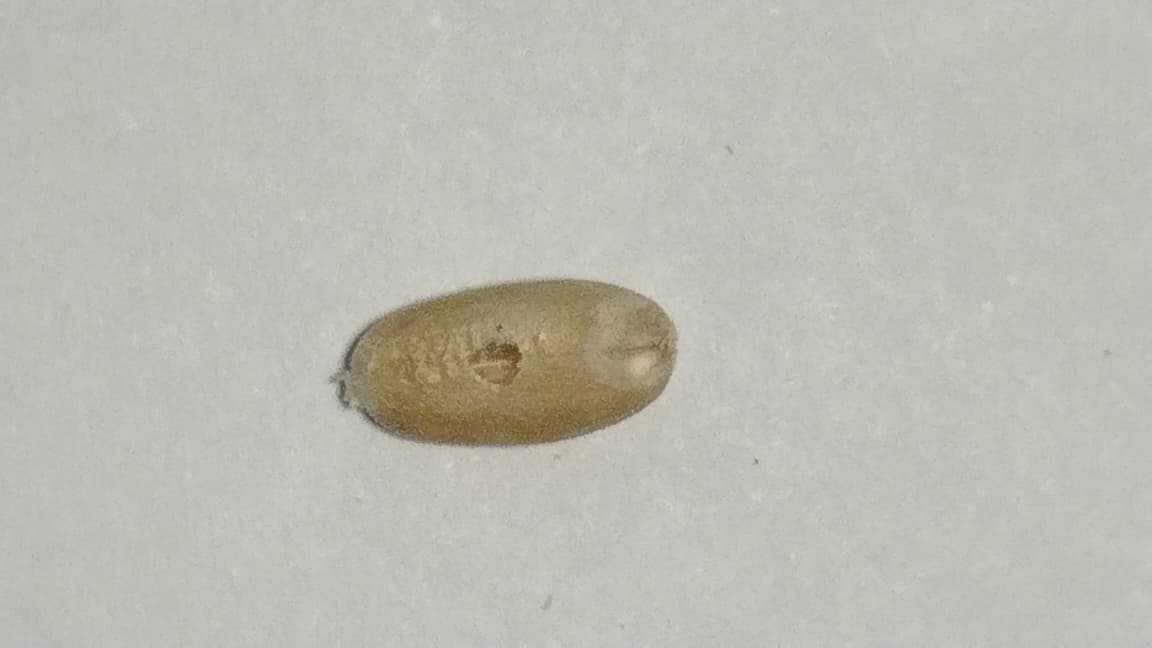damage: (343, 281, 675, 444)
insectdamage: (444, 316, 536, 401)
